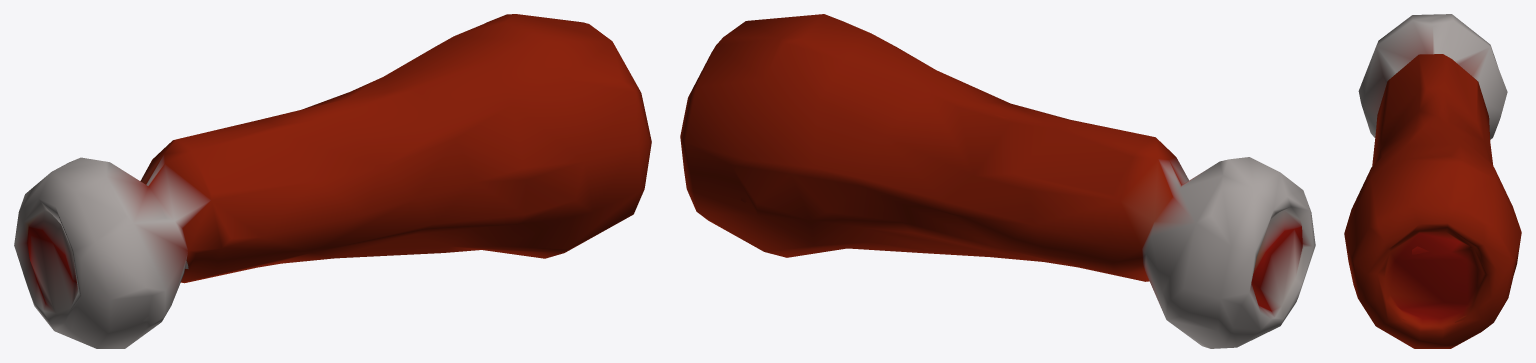
Rendered from gen3d-chicken-leg-lod1.glb.
3 renders of one model, left to right at view 1: azimuth 30°, elevation 25°; view 2: azimuth 150°, elevation 25°; view 3: azimuth 270°, elevation 25°, orthographic. The views are drawn at different scales.
Parts seen in each view (by area): view 1: part_0; view 2: part_0; view 3: part_0.
Boxes of the visible parts, bbox=[...] form: part_0: bbox=[14, 14, 651, 348]; part_0: bbox=[680, 14, 1315, 348]; part_0: bbox=[1344, 14, 1521, 348].
Size of the model in its own units: 2.69 by 0.9913 by 0.9282.
